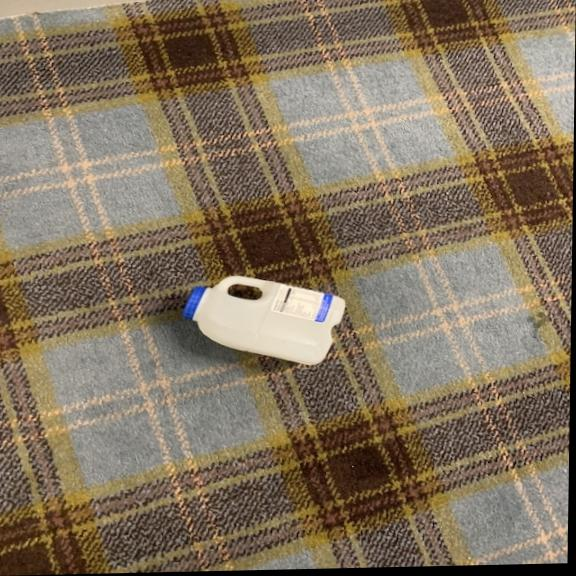Plastik: (179, 269, 351, 370)
